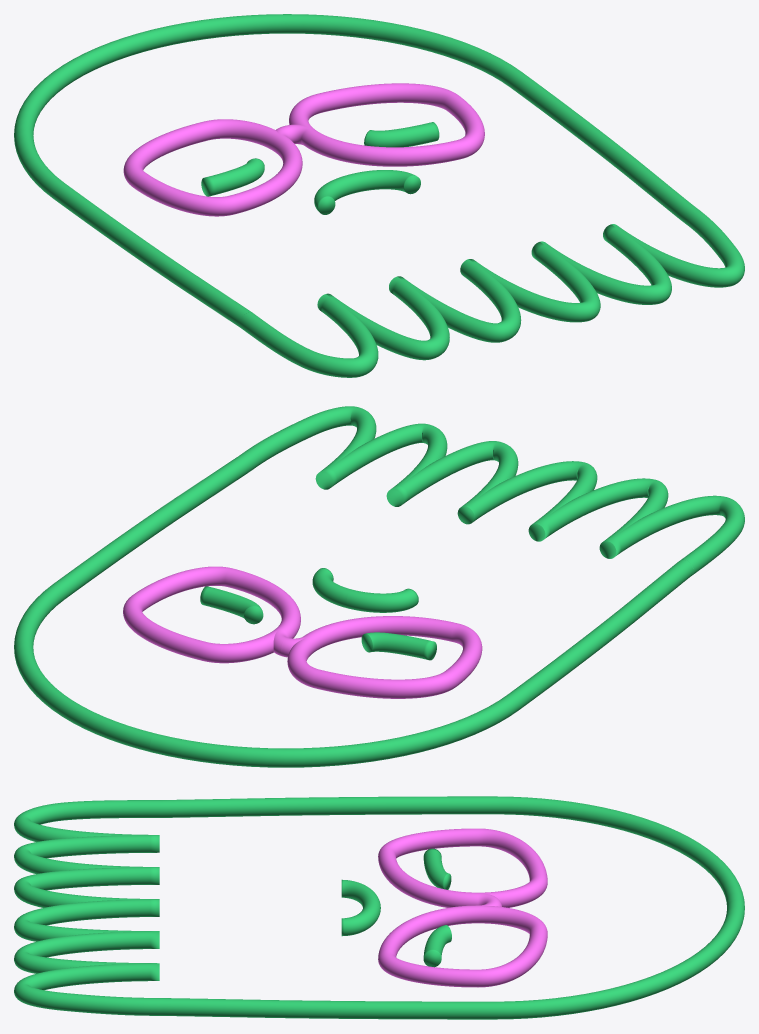
Rendered from ghostie-transformed.glb.
3 renders of one model, top to bottom at view 1: azimuth 30°, elevation 25°; view 2: azimuth 150°, elevation 25°; view 3: azimuth 270°, elevation 25°, orthographic. The views are drawn at different scales.
Visible parts, largest first — view 1: Ghostie_Eyes_01, Ghostie_Glasses_01; view 2: Ghostie_Eyes_01, Ghostie_Glasses_01; view 3: Ghostie_Eyes_01, Ghostie_Glasses_01.
Boxes of the visible parts, x1=… form: Ghostie_Eyes_01: x1=14, y1=14, x2=744, y2=377; Ghostie_Glasses_01: x1=123, y1=83, x2=484, y2=216; Ghostie_Eyes_01: x1=14, y1=406, x2=744, y2=767; Ghostie_Glasses_01: x1=123, y1=566, x2=482, y2=698; Ghostie_Eyes_01: x1=14, y1=796, x2=744, y2=1019; Ghostie_Glasses_01: x1=378, y1=828, x2=547, y2=987.
Size of the model in its own units: 0.1405 by 0.005 by 0.2039.
